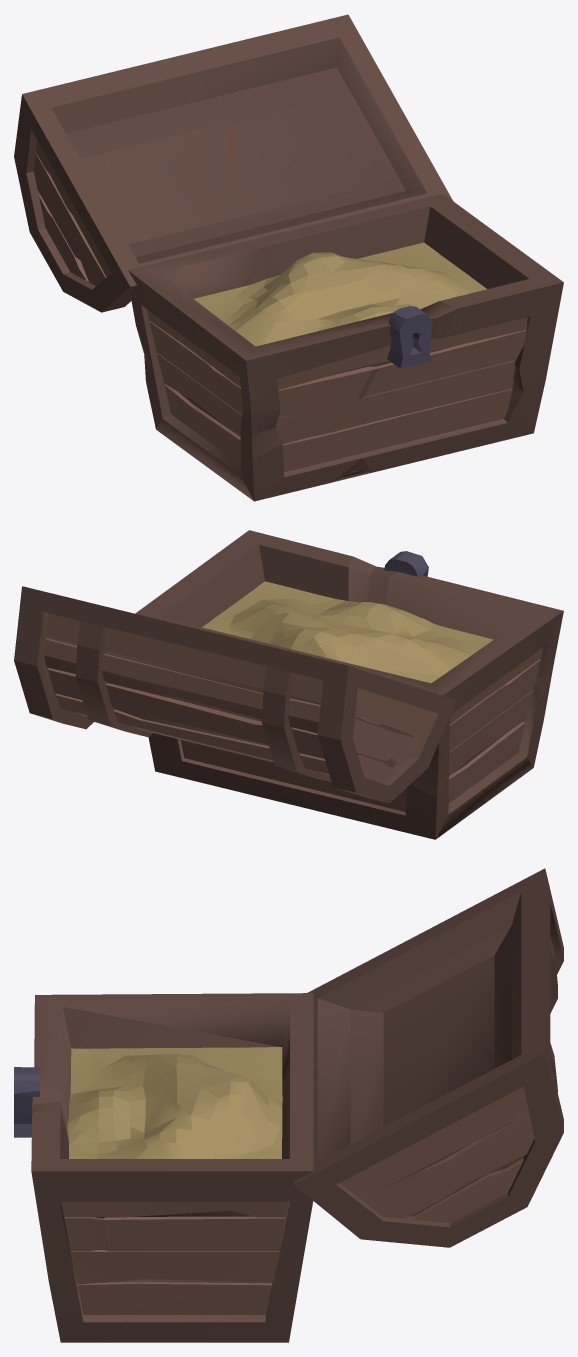
The model's file is ChestWithGold.fbx.
The picture shows the model from 3 angles, top to bottom: view 1: azimuth 30°, elevation 25°; view 2: azimuth 150°, elevation 25°; view 3: azimuth 270°, elevation 25°; orthographic projection. The views are drawn at different scales.
Parts seen in each view (by area): view 1: Chest_Base, Chest_Top, Chest_Base.001; view 2: Chest_Top, Chest_Base, Chest_Base.001; view 3: Chest_Top, Chest_Base, Chest_Base.001.
Boxes of the visible parts, x1,y1,x2,y2 form: Chest_Base: (128,193,563,501); Chest_Top: (14,14,453,312); Chest_Base.001: (193,242,486,346); Chest_Top: (14,586,456,803); Chest_Base: (135,530,563,839); Chest_Base.001: (202,581,493,683); Chest_Top: (293,868,563,1247); Chest_Base: (14,993,313,1342); Chest_Base.001: (67,1047,282,1158).
Size of the model in its own units: 118 by 89.95 by 148.
